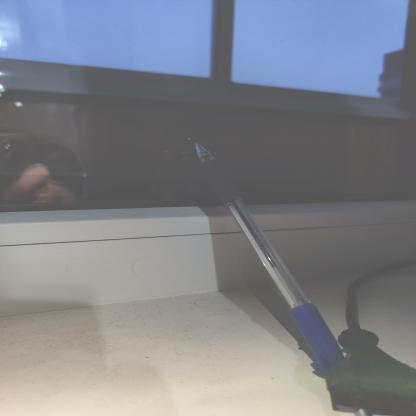pen: (178, 130, 366, 390)
